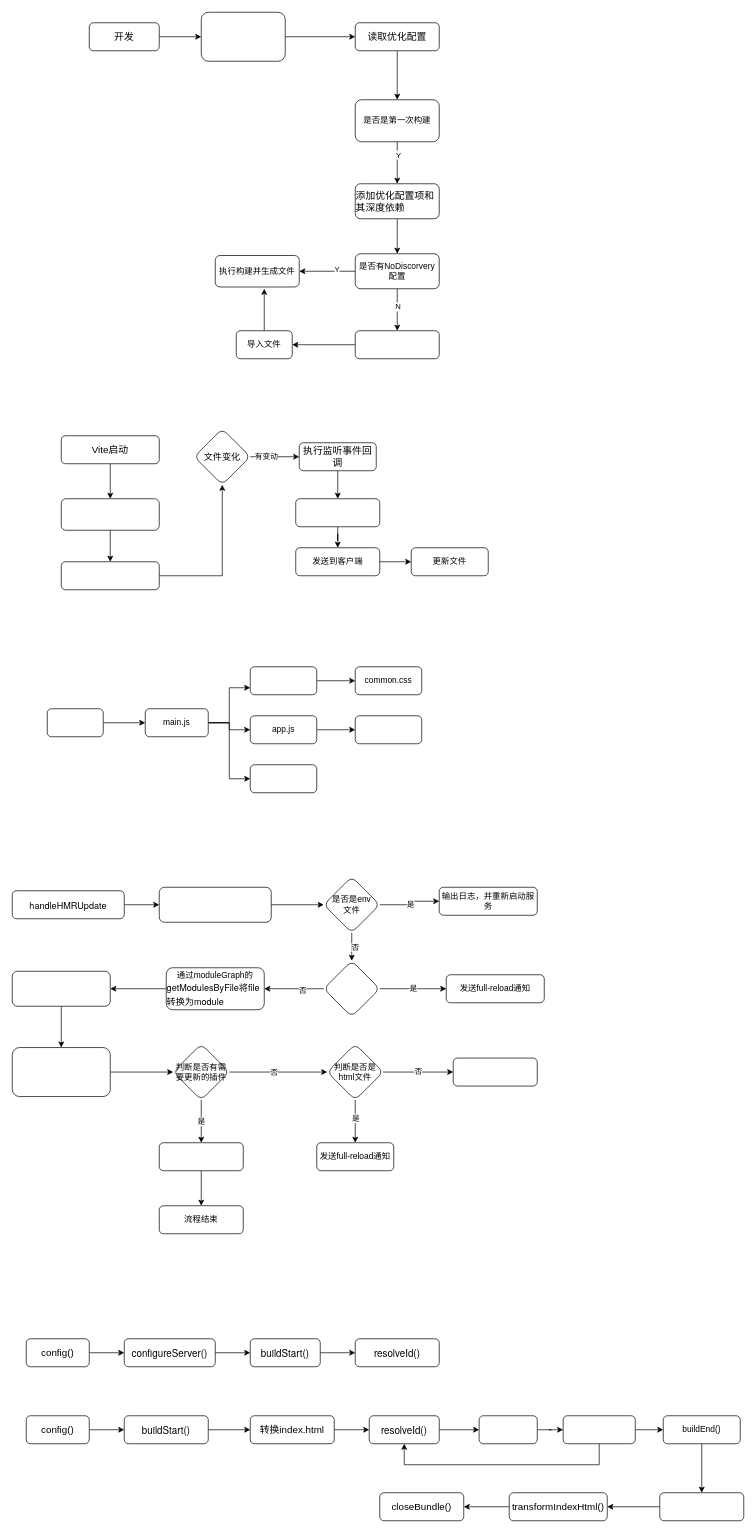
The diagram is 756 pixels wide and 1533 high, and some of its shapes have lost their labels. The centre of each missing label's shape, as x and y in pixels:
3rd.js: [283,778]
index.html: [75,722]
load(): [507,1429]
rendChunk(): [701,1506]
style.css: [283,680]
transform(): [598,1429]
utils .js: [388,729]
创建websocket服务: [110,514]
判断并初始化预构建的_metadata.json文件: [243,36]
启用文件监听: [110,575]
将config.plugins中声明的插件挂载到hmr上下文的modules中: [61,1072]
扫描导入的文件: [397,344]
日志输出: [495,1071]
是否是客户端文件: [351,988]
缓存需要更新的文件: [337,512]
调用 updateModules: [201,1156]
通过Chokidar获取 变更文件: [215,904]
通过module初始化HMR上下文: [61,988]
